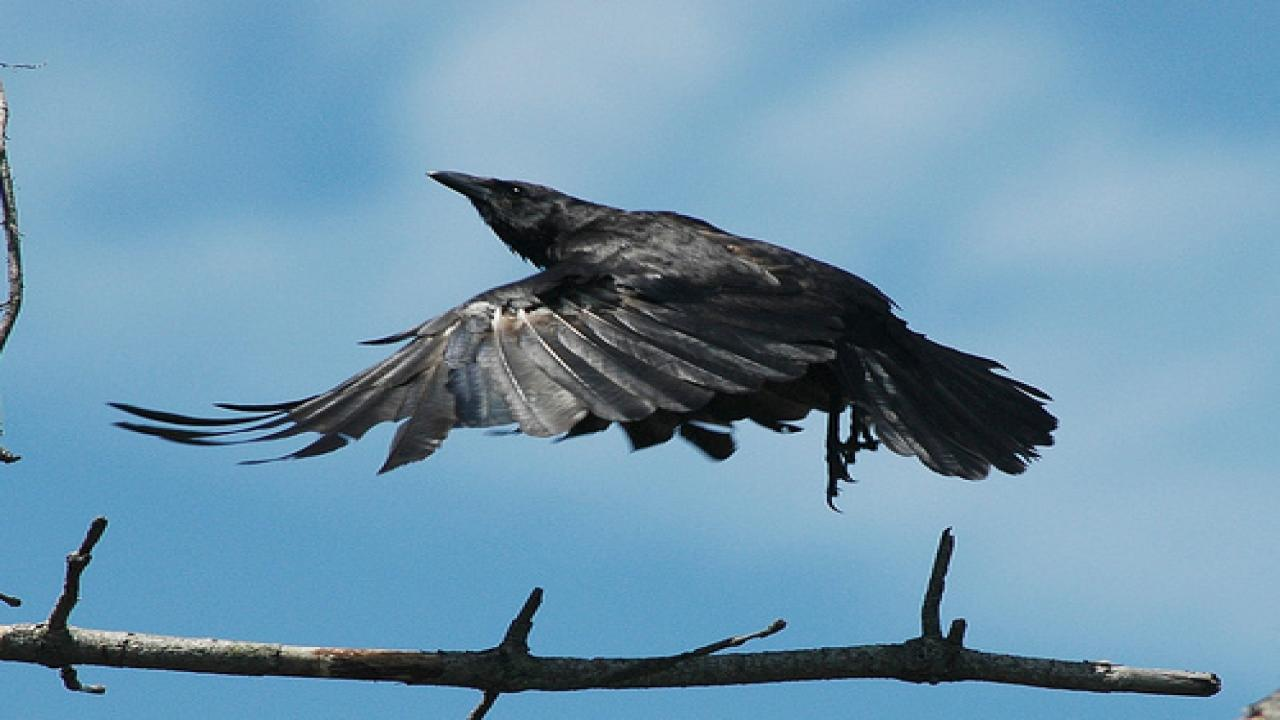Bird: (98, 159, 1074, 530)
